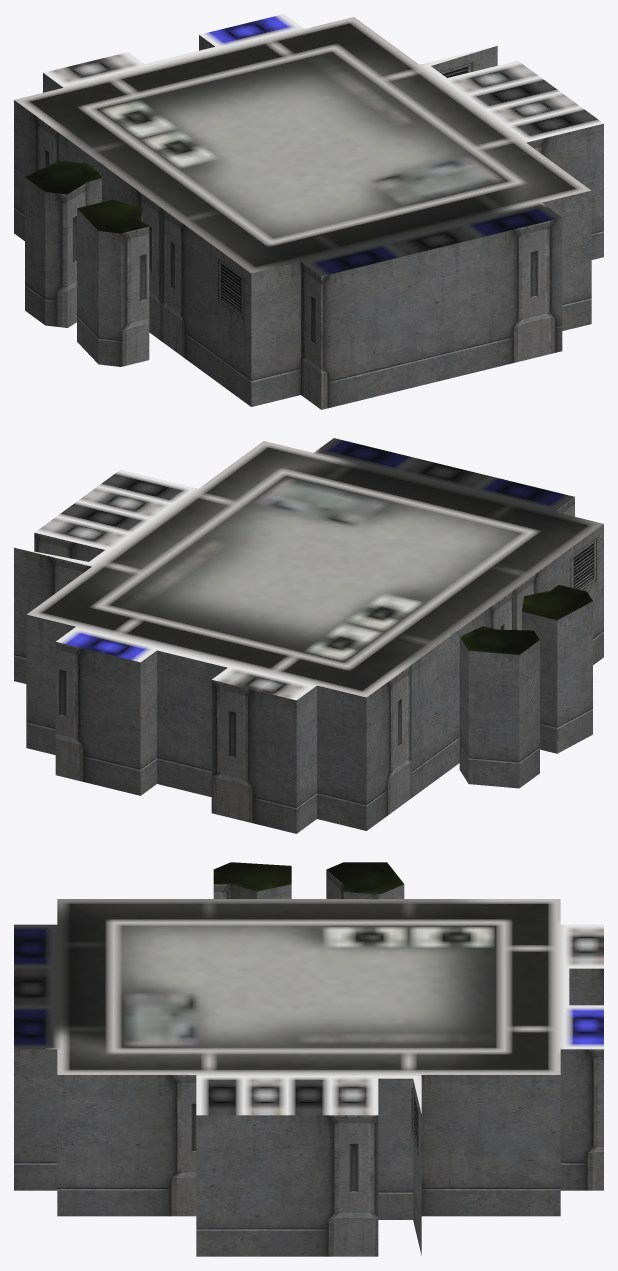
File: BuildingSystem-02-Intermediate-03-ReinforcedLow-7-100.glb
3 views of the same model, one above another, from view 1: azimuth 30°, elevation 25°; view 2: azimuth 150°, elevation 25°; view 3: azimuth 270°, elevation 25° (orthographic). The views are drawn at different scales.
Visible parts, largest first — view 1: buildings/saxarba/SMV_Buildings/BuildingSystem-02-Intermedia; view 2: buildings/saxarba/SMV_Buildings/BuildingSystem-02-Intermedia; view 3: buildings/saxarba/SMV_Buildings/BuildingSystem-02-Intermedia.
Boxes of the visible parts, <box> form: buildings/saxarba/SMV_Buildings/BuildingSystem-02-Intermedia: <box>14,14,603,409</box>; buildings/saxarba/SMV_Buildings/BuildingSystem-02-Intermedia: <box>14,438,603,833</box>; buildings/saxarba/SMV_Buildings/BuildingSystem-02-Intermedia: <box>14,862,603,1256</box>.
Size of the model in its own units: 69 by 18 by 68.
